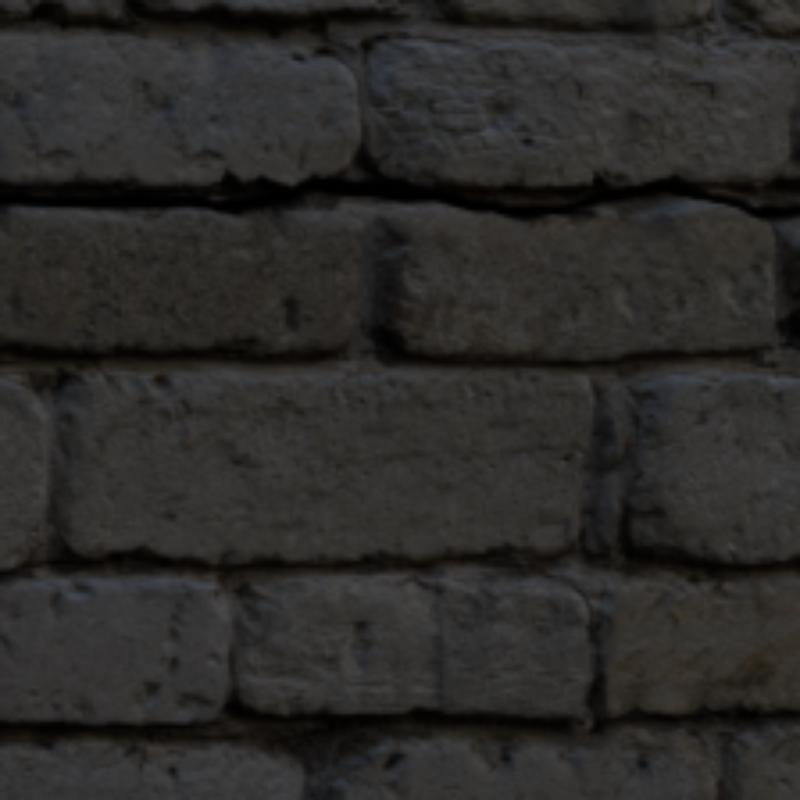pothole: (0, 175, 796, 218)
